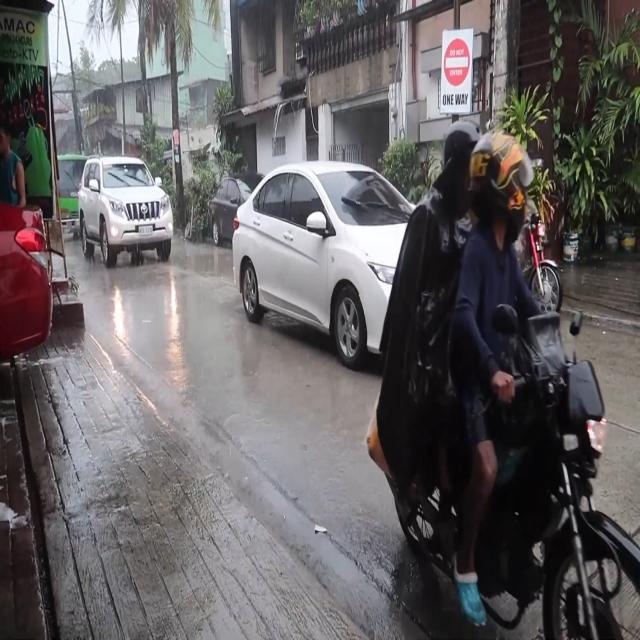full: (468, 125, 538, 245)
invalid: (442, 119, 481, 162)
